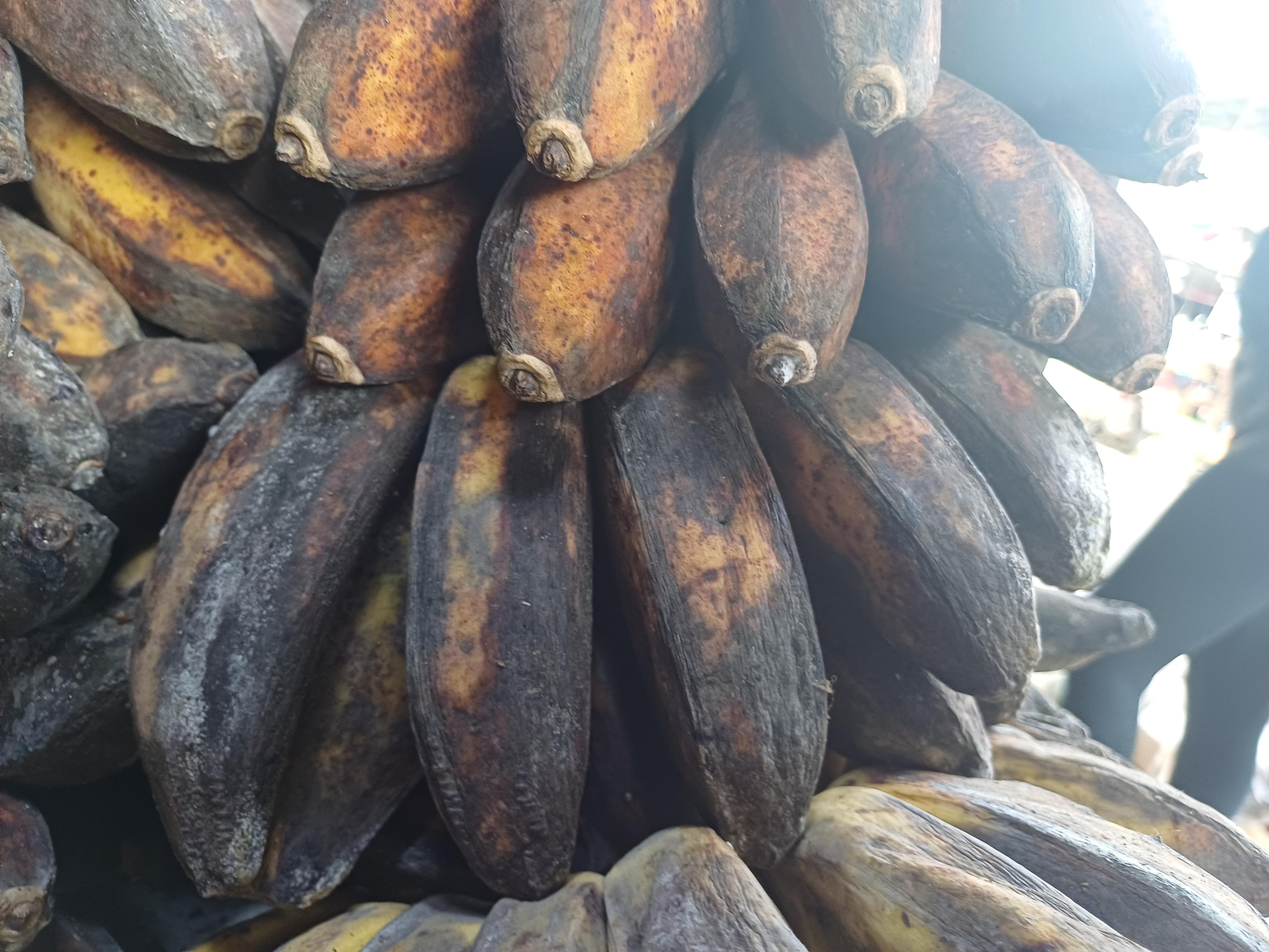overripe: (129, 280, 1107, 908), (274, 0, 1204, 402), (279, 725, 1269, 952), (0, 73, 312, 519), (0, 246, 139, 786), (0, 0, 312, 184)
